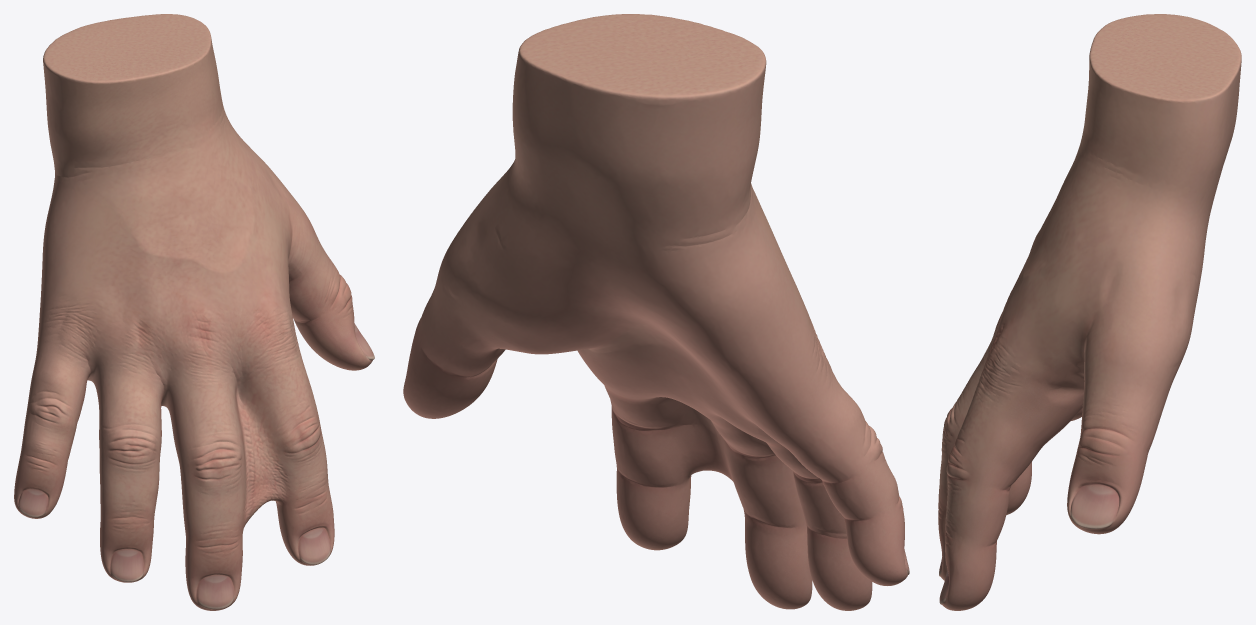
The model's file is sindactilia-v1.glb.
3 views of the same model, side by side, from view 1: azimuth 30°, elevation 25°; view 2: azimuth 150°, elevation 25°; view 3: azimuth 270°, elevation 25° (orthographic). The views are drawn at different scales.
Bounding box in the file's own units: 1.49 × 1.9 × 0.9843.
Materials: 1 (1 with a texture image).
